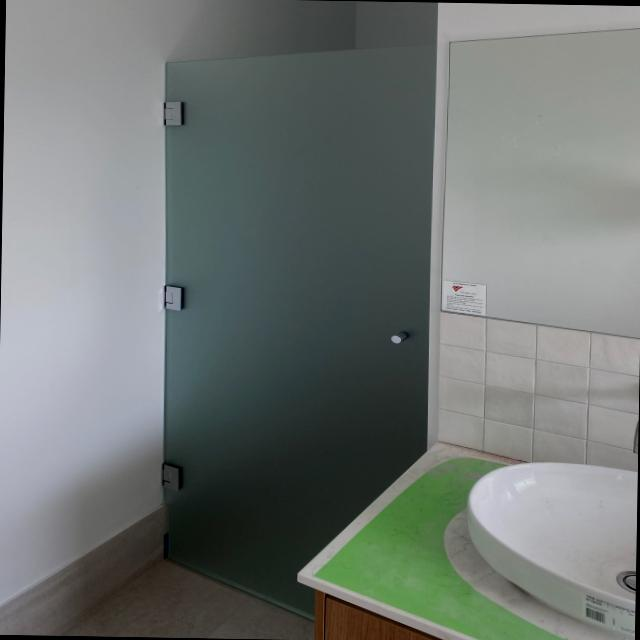door: (164, 45, 435, 618)
